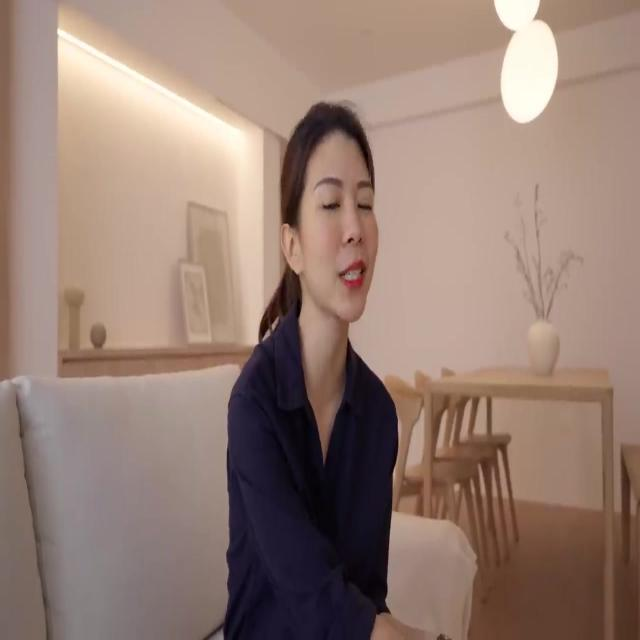obstacle: (0, 362, 478, 638), (423, 364, 615, 638)
person: (223, 100, 439, 639)
